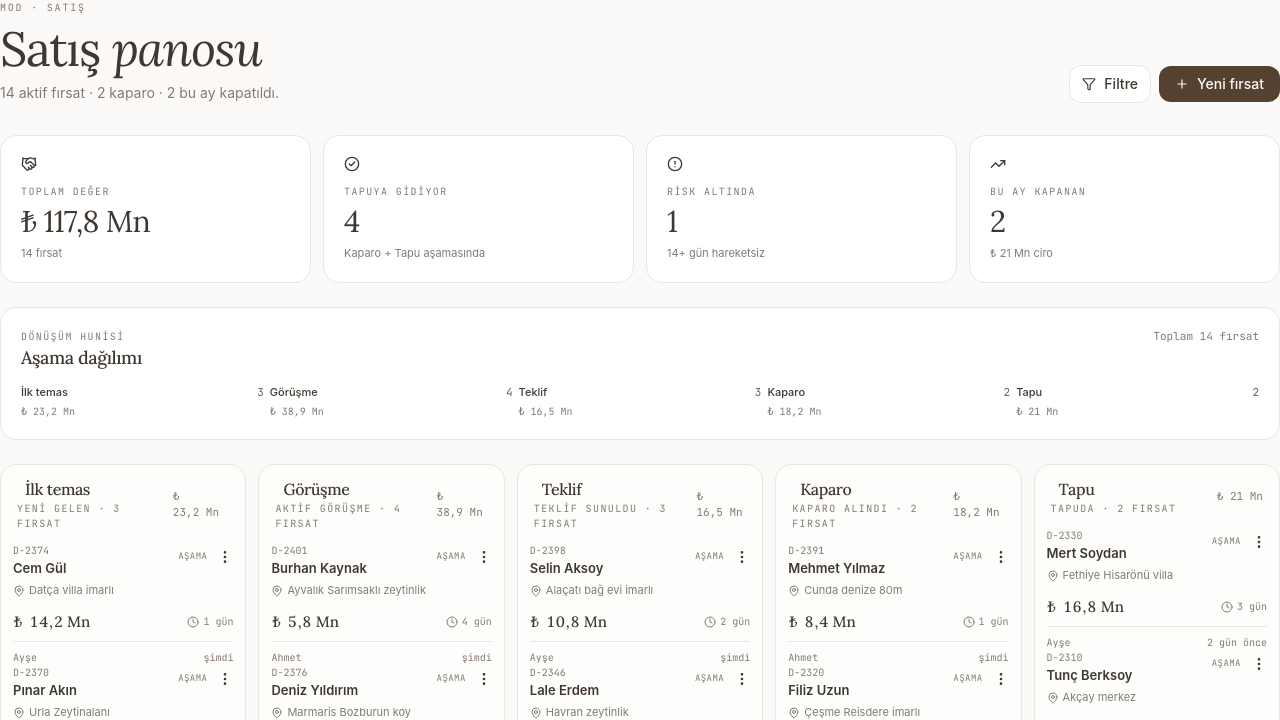
Sales CRUD UI › opens DealDetailDrawer when a card is clicked
Click the button with test id "deal-card-D-2401" at (289, 550), box [271,543,492,665]
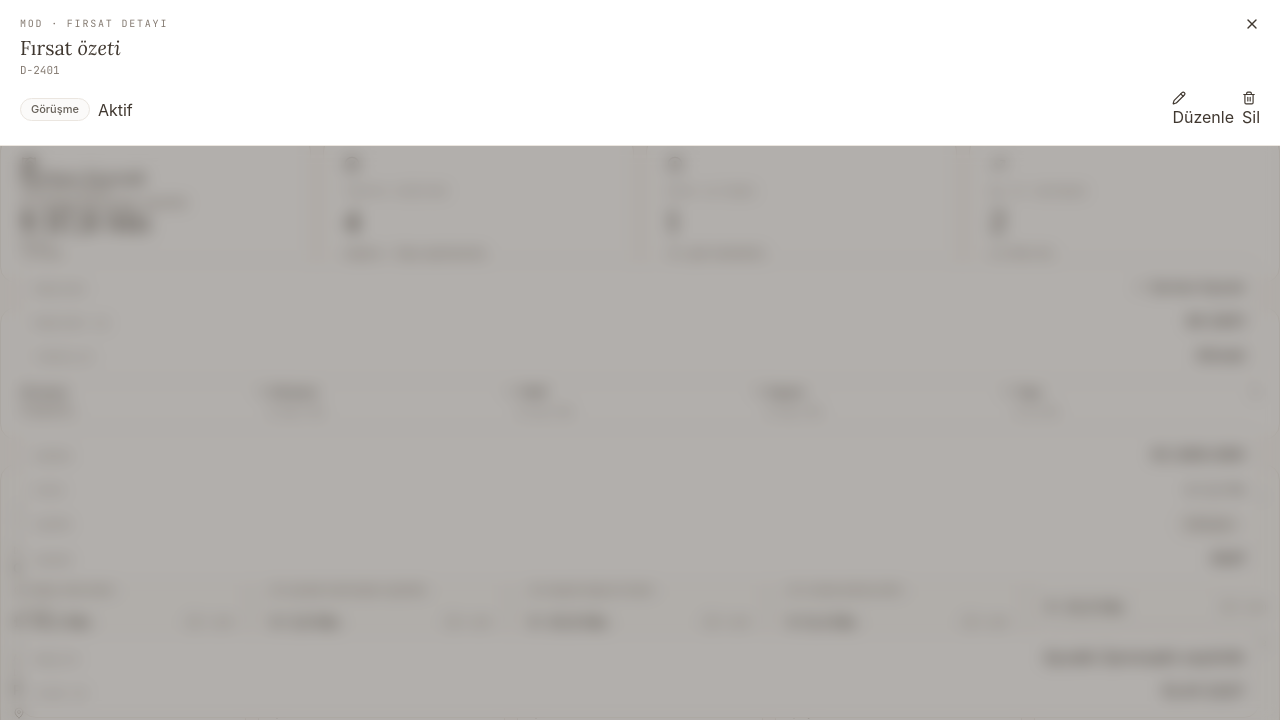
Expected: the element with test id "deal-detail-drawer" is shown
Expected: the heading "Burhan Kaynak" is shown, [20,166,146,188]
Expected: the text "D-2401" is shown, [20,63,60,77]
